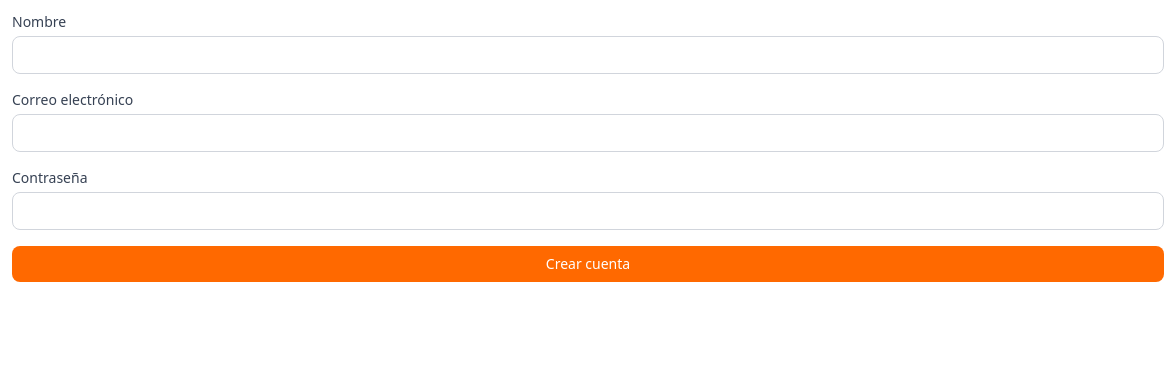
RegisterForm › should show validation errors for empty submit
This screenshot has width=1176, height=372.
Click the button "Crear cuenta".
click(588, 264)  # box [12,246,1164,282]
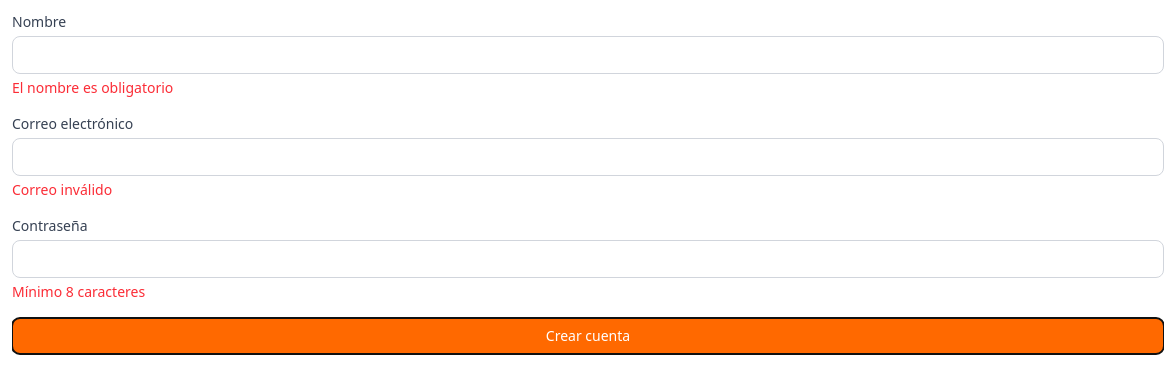
Expected: the text "El nombre es obligatorio" is shown, [12,78,173,97]
Expected: the text "Correo inválido" is shown, [12,180,112,199]
Expected: the text "Mínimo 8 caracteres" is shown, [12,282,145,301]
